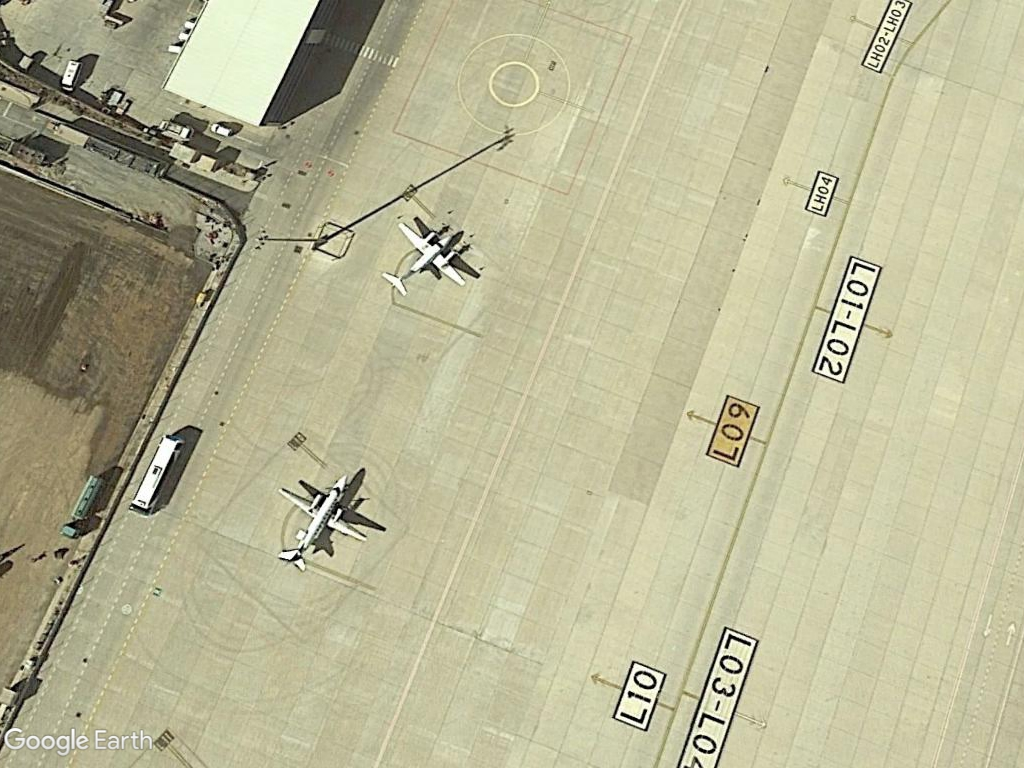bus: (124, 428, 192, 521)
propeller: (266, 466, 377, 581), (386, 210, 476, 306)
van: (54, 55, 86, 97)
